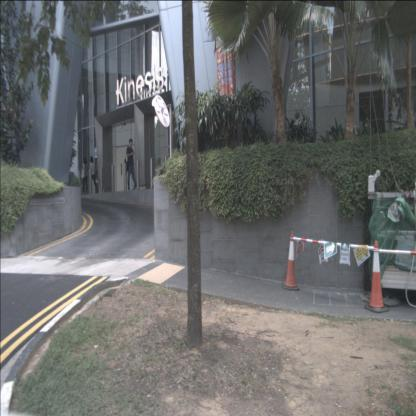human-pedestrian-adult: (125, 139, 137, 191), (89, 156, 99, 194), (81, 157, 88, 195)
movable_object-trafficcone: (364, 240, 390, 312), (282, 230, 299, 291)
